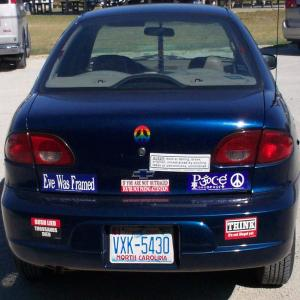Vehicle-registration-plate: (111, 225, 175, 264)
